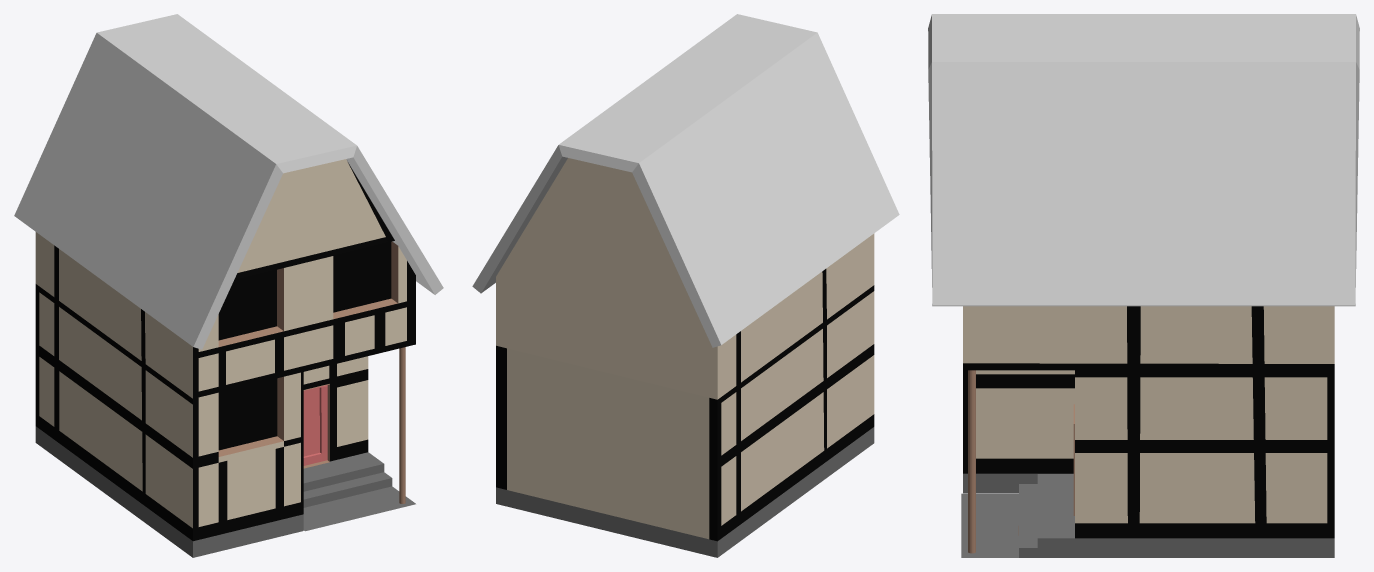
The model's file is house variation. 29 may.fbx.
3 renders of one model, left to right at view 1: azimuth 30°, elevation 25°; view 2: azimuth 150°, elevation 25°; view 3: azimuth 270°, elevation 25°, orthographic. The views are drawn at different scales.
Visible parts, largest first — view 1: Cube; view 2: Cube; view 3: Cube.
Part boxes in pixels (x1=…): Cube: x1=14, y1=14, x2=443, y2=557; Cube: x1=472, y1=14, x2=899, y2=557; Cube: x1=928, y1=14, x2=1359, y2=557.
Bounding box in the file's own units: 687 × 1013 × 869.
